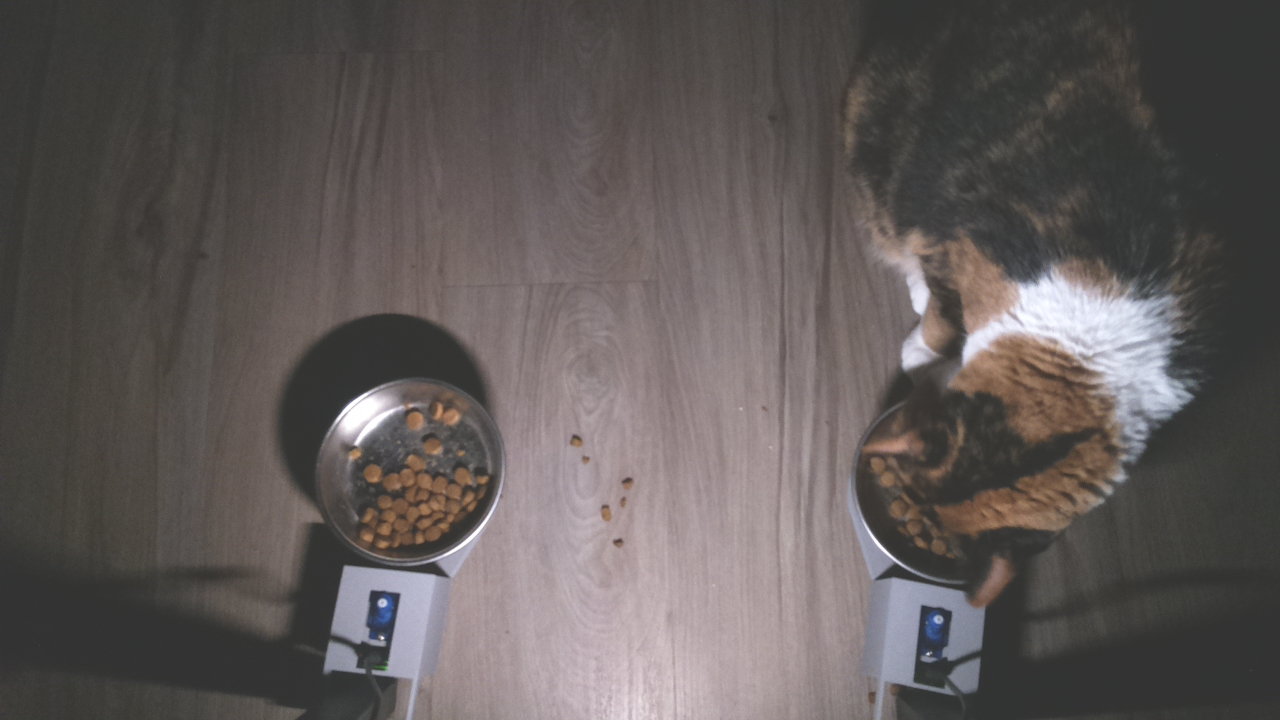bella_eating: (850, 323, 1150, 618)
open_bowl: (312, 376, 511, 571)
